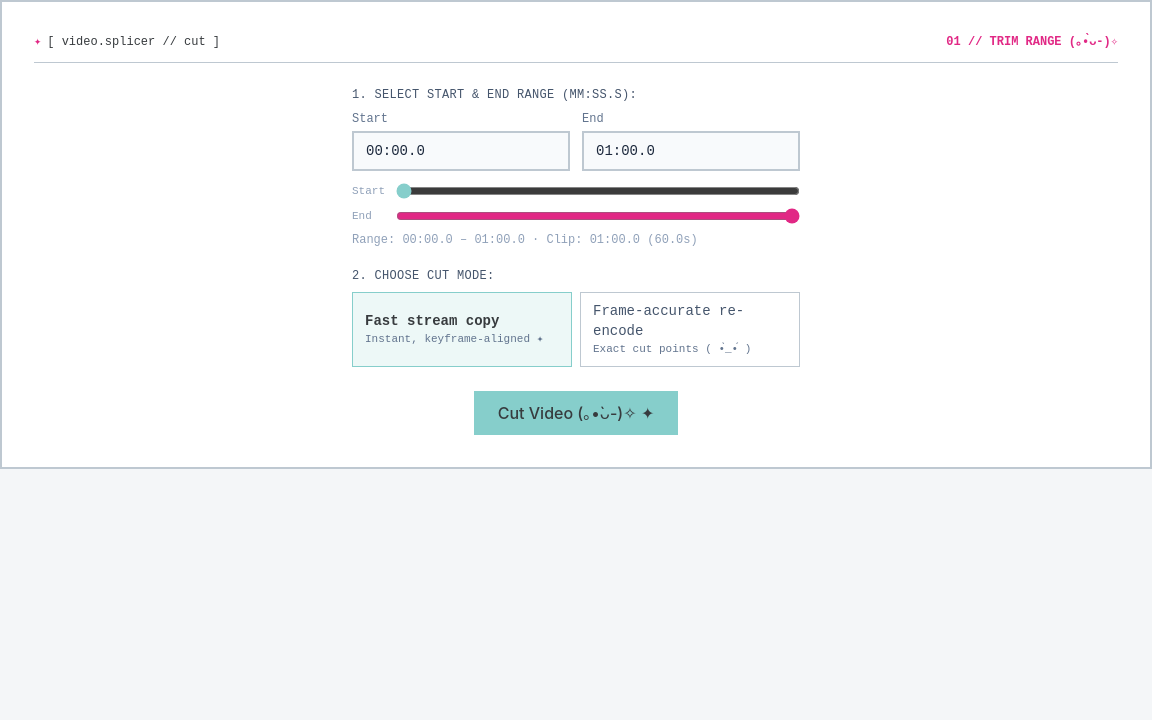
Scenario: CutPanel › timestamp parsing and form validation › blocks submission for negative timestamps
This screenshot has width=1152, height=720.
Later steps or results of the test are not shown.
Type "-00:05.0" into the field with test id "cut-start-input". click: (461, 151)
box: [352, 131, 570, 171]
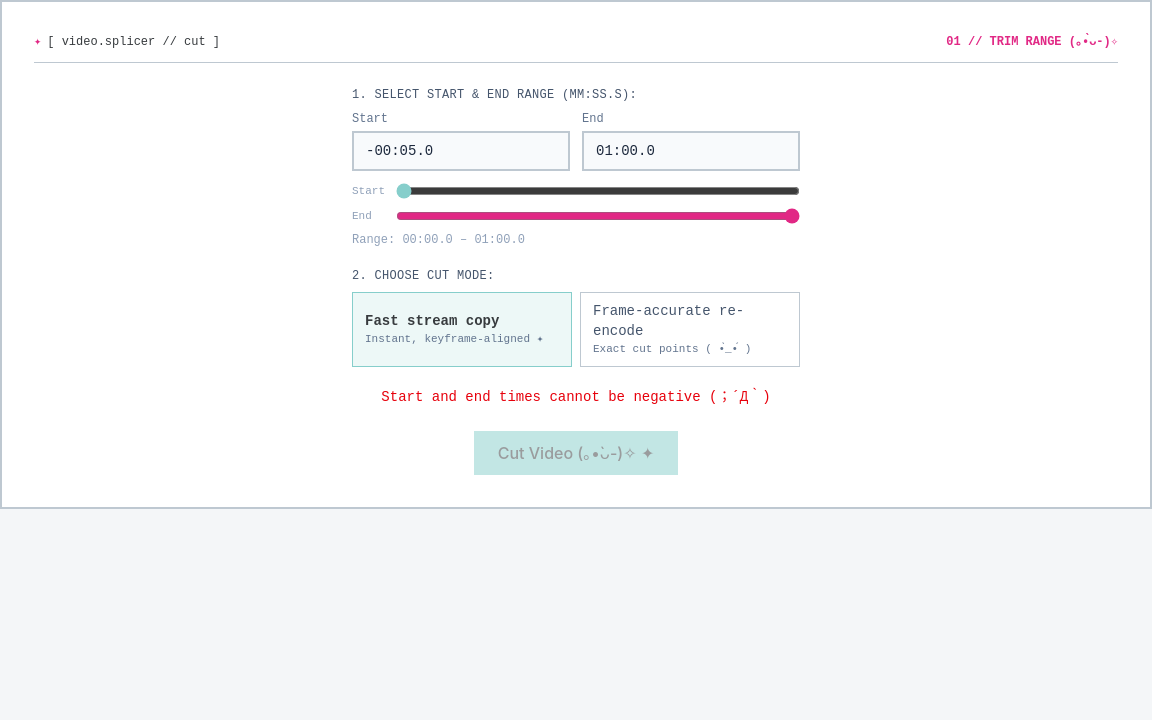
Check: the message with test id "cut-validation-error" shows "cannot be negative", box [381, 388, 771, 404]
Check: the button with test id "start-cut-btn" is disabled, box [474, 430, 678, 474]
